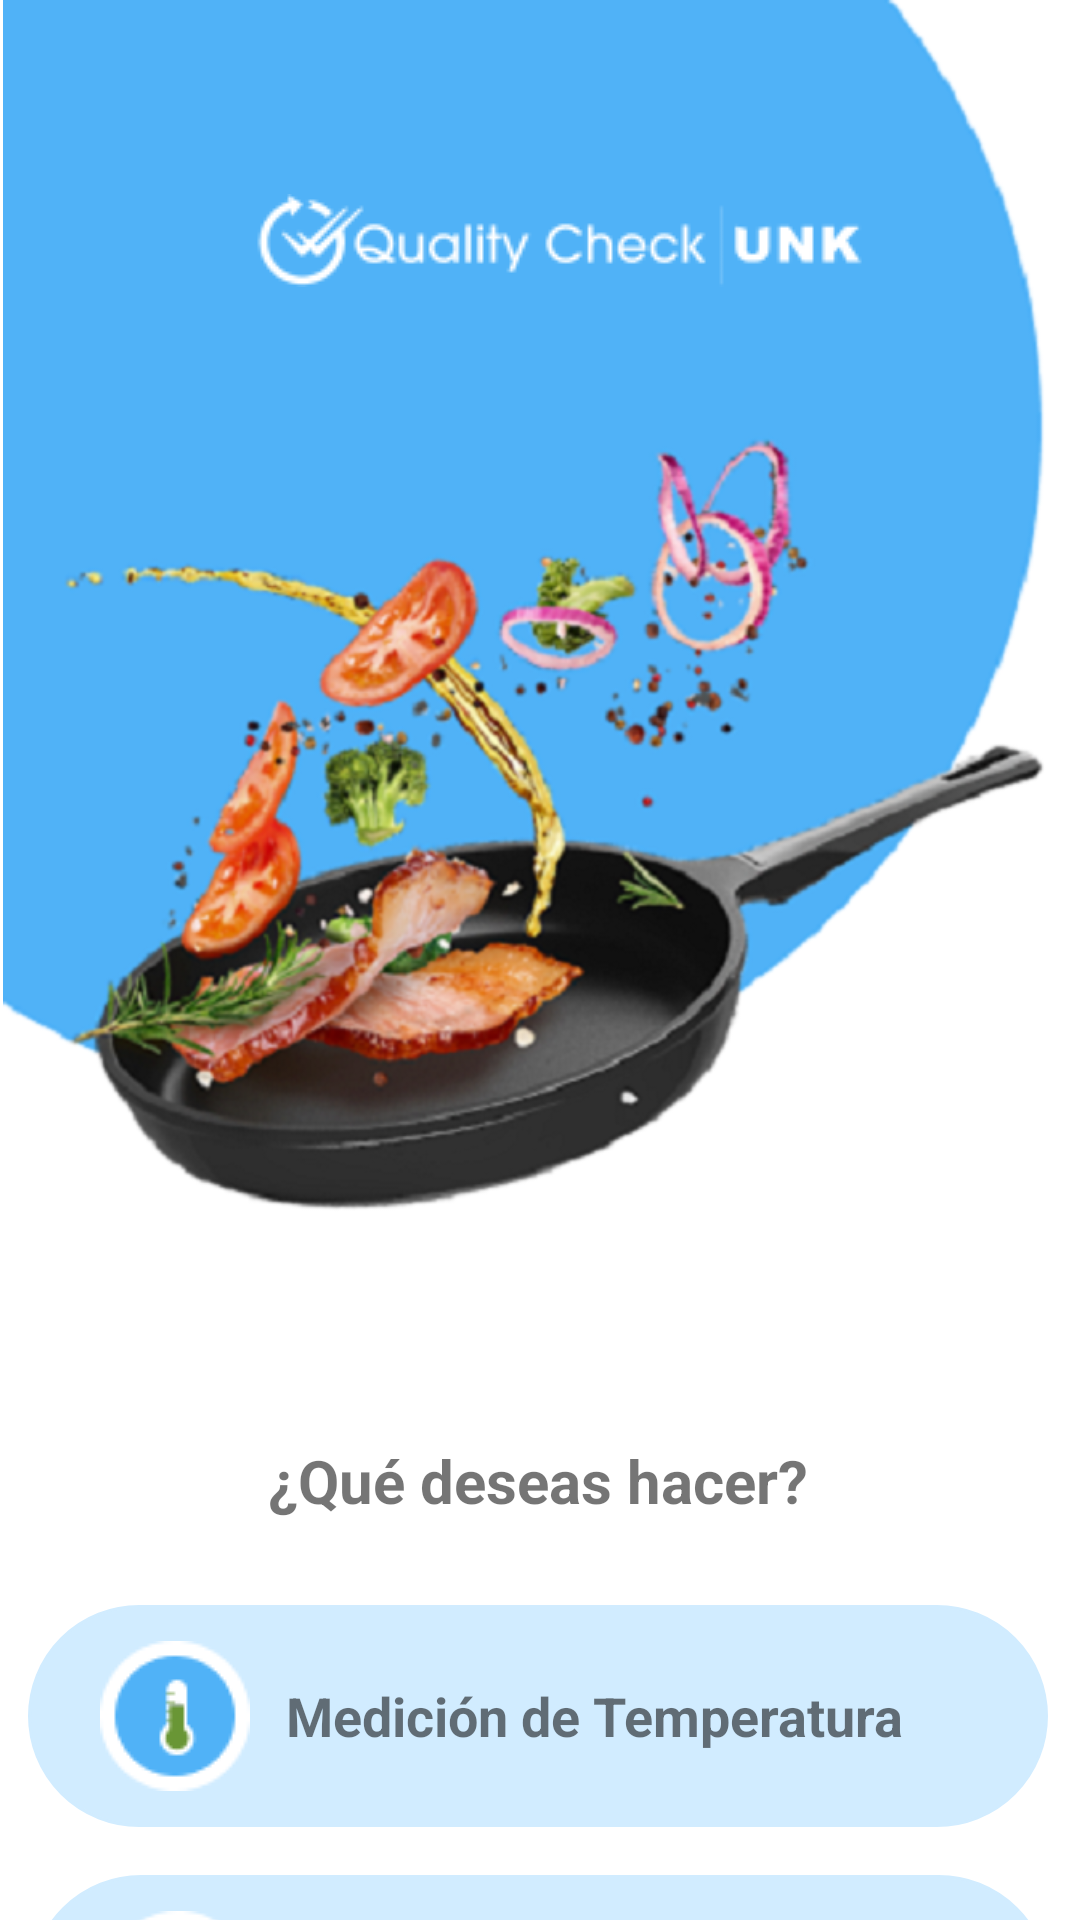

Locate icon controls on the screen. Image size 1080×1920, boxes as (x1, y1, x2, y2).
medicion: (100, 1641, 250, 1791)
